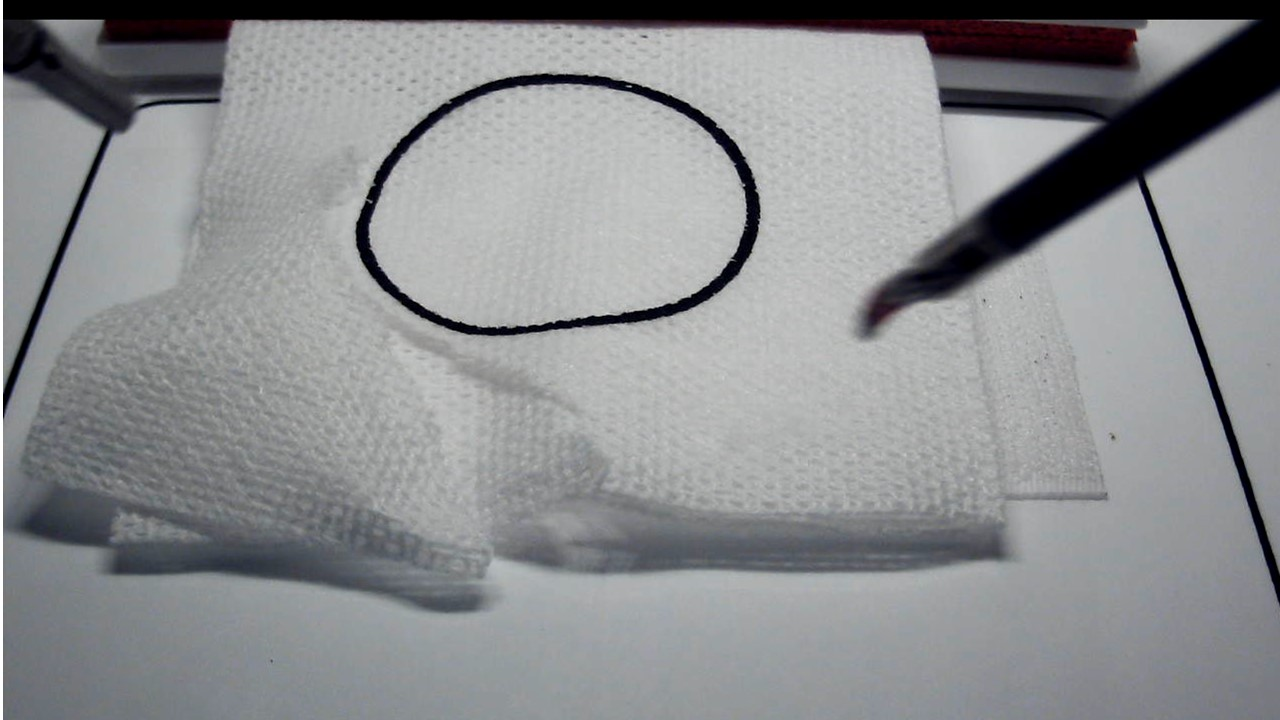Circle: (355, 72, 760, 336)
Grasper: (7, 20, 147, 139)
Scissor: (855, 255, 953, 341)
